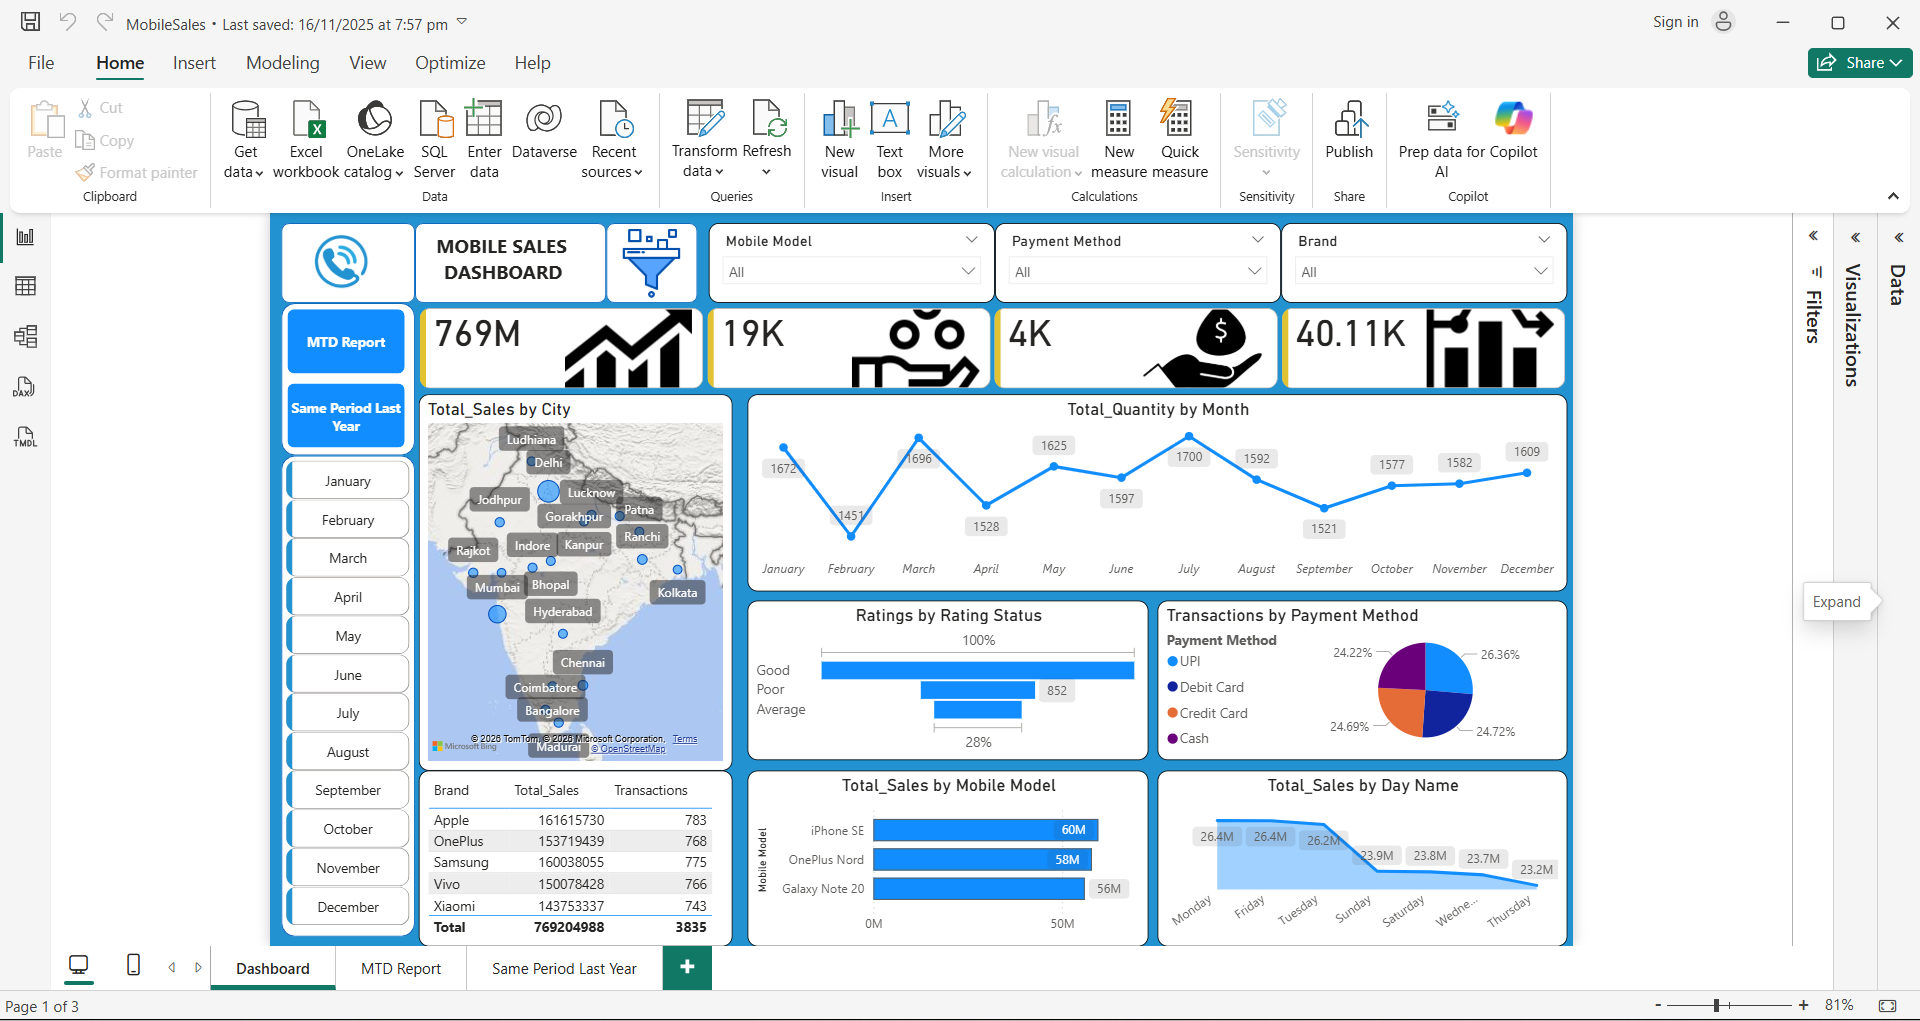

This screenshot's page, from the dashboard's own definition file:
{"tool":"powerbi","page":{"name":"Dashboard","canvas":[1280,720],"ordinal":0},"visuals":[{"type":"shape","box":[11,9.8,131.3,78.5],"z":0},{"type":"image","box":[17.2,14.7,105.5,67.5],"z":1000},{"type":"shape","box":[11,88.3,131.3,149.7],"z":2000},{"type":"shape","box":[11,238,131.3,472.4],"z":3000},{"type":"advancedSlicerVisual","fields":{"Values":["Custom_Calender.Date.Variation.Date Hierarchy.Month"]},"box":[11,238,131.3,472.4],"z":4000},{"type":"cardVisual","fields":{"Data":["Mobile_Sales_Data.Total_Sales","Mobile_Sales_Data.Total_Quantity","Mobile_Sales_Data.Transactions","Mobile_Sales_Data.Average_Price"]},"box":[142.3,88.3,1137.4,89.6],"z":5000},{"type":"slicer","fields":{"Values":["Mobile_Sales_Data.Mobile Model"]},"box":[430.7,9.8,281,78.5],"z":6000},{"type":"slicer","fields":{"Values":["Mobile_Sales_Data.Payment Method"]},"box":[711.7,9.8,281,78.5],"z":7000},{"type":"slicer","fields":{"Values":["Mobile_Sales_Data.Brand"]},"box":[992.6,9.8,281,78.5],"z":8000},{"type":"shape","box":[330.1,9.8,89.6,78.5],"z":9000},{"type":"image","box":[330.1,9.8,88.3,79.8],"z":10000},{"type":"shape","box":[142.3,9.8,187.7,78.5],"z":11000},{"type":"textbox","box":[158.3,14.7,141.1,67.5],"z":12000},{"type":"map","fields":{"Category":["Mobile_Sales_Data.City"],"Size":["Mobile_Sales_Data.Total_Sales"]},"box":[146,177.9,308,369.3],"z":13000},{"type":"lineChart","fields":{"Category":["Custom_Calender.Date.Variation.Date Hierarchy.Month"],"Y":["Mobile_Sales_Data.Total_Quantity"]},"box":[468.7,177.9,804.9,193.9],"z":14000},{"type":"funnel","title":"Ratings by Rating Status","fields":{"Y":["CountNonNull(Mobile_Sales_Data.Customer Age)"],"Category":["Mobile_Sales_Data.Rating Status"]},"box":[468.7,380.4,393.9,157.1],"z":15000},{"type":"pieChart","fields":{"Y":["Mobile_Sales_Data.Transactions"],"Category":["Mobile_Sales_Data.Payment Method"]},"box":[871.2,380.4,402.5,157.1],"z":16000},{"type":"clusteredBarChart","fields":{"Y":["Mobile_Sales_Data.Total_Sales"],"Category":["Mobile_Sales_Data.Mobile Model"]},"box":[468.7,547.2,393.9,173],"z":17000},{"type":"areaChart","fields":{"Y":["Mobile_Sales_Data.Total_Sales"],"Category":["Custom_Calender.Day Name"]},"box":[871.2,547.2,402.5,173],"z":18000},{"type":"tableEx","fields":{"Values":["Mobile_Sales_Data.Brand","Mobile_Sales_Data.Total_Sales","Mobile_Sales_Data.Transactions"]},"box":[146,547.2,308,173],"z":19000},{"type":"pageNavigator","box":[17.2,94.5,115.3,136.2],"z":19001}]}

Visuals, with their boxes on the page's 1280x720 design canvas (x1, y1, x2, y2). These are canvas units, not pixel positions in the 1920x1021 screenshot, which may show the page scaled, cropped or inside an application window:
shape: pyautogui.locateOnScreen(11, 10, 142, 88)
image: pyautogui.locateOnScreen(17, 15, 123, 82)
shape: pyautogui.locateOnScreen(11, 88, 142, 238)
shape: pyautogui.locateOnScreen(11, 238, 142, 710)
advancedSlicerVisual - Custom_Calender.Date.Variation.Date Hierarchy.Month: pyautogui.locateOnScreen(11, 238, 142, 710)
cardVisual - Mobile_Sales_Data.Total_Sales x Mobile_Sales_Data.Total_Quantity: pyautogui.locateOnScreen(142, 88, 1280, 178)
slicer - Mobile_Sales_Data.Mobile Model: pyautogui.locateOnScreen(431, 10, 712, 88)
slicer - Mobile_Sales_Data.Payment Method: pyautogui.locateOnScreen(712, 10, 993, 88)
slicer - Mobile_Sales_Data.Brand: pyautogui.locateOnScreen(993, 10, 1274, 88)
shape: pyautogui.locateOnScreen(330, 10, 420, 88)
image: pyautogui.locateOnScreen(330, 10, 418, 90)
shape: pyautogui.locateOnScreen(142, 10, 330, 88)
textbox: pyautogui.locateOnScreen(158, 15, 299, 82)
map - Mobile_Sales_Data.City x Mobile_Sales_Data.Total_Sales: pyautogui.locateOnScreen(146, 178, 454, 547)
lineChart - Custom_Calender.Date.Variation.Date Hierarchy.Month x Mobile_Sales_Data.Total_Quantity: pyautogui.locateOnScreen(469, 178, 1274, 372)
"Ratings by Rating Status" funnel: pyautogui.locateOnScreen(469, 380, 863, 538)
pieChart - Mobile_Sales_Data.Transactions x Mobile_Sales_Data.Payment Method: pyautogui.locateOnScreen(871, 380, 1274, 538)
clusteredBarChart - Mobile_Sales_Data.Total_Sales x Mobile_Sales_Data.Mobile Model: pyautogui.locateOnScreen(469, 547, 863, 720)
areaChart - Mobile_Sales_Data.Total_Sales x Custom_Calender.Day Name: pyautogui.locateOnScreen(871, 547, 1274, 720)
tableEx - Mobile_Sales_Data.Brand x Mobile_Sales_Data.Total_Sales: pyautogui.locateOnScreen(146, 547, 454, 720)
pageNavigator: pyautogui.locateOnScreen(17, 94, 132, 231)
